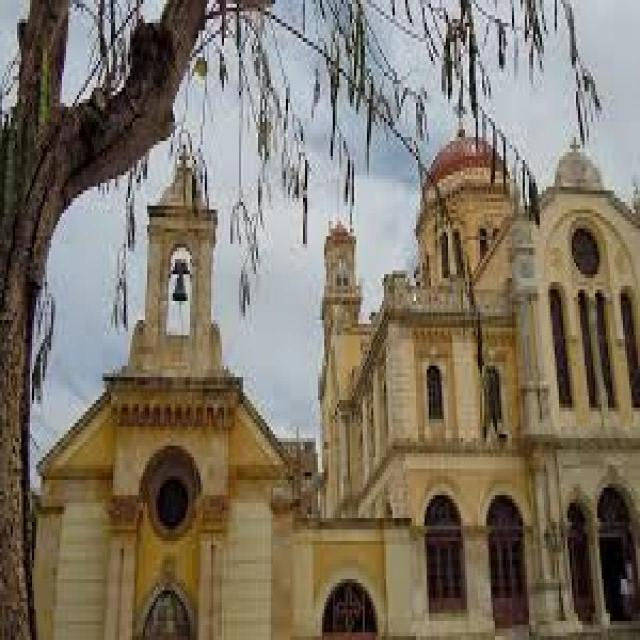Agios Minas: (48, 12, 640, 640)
